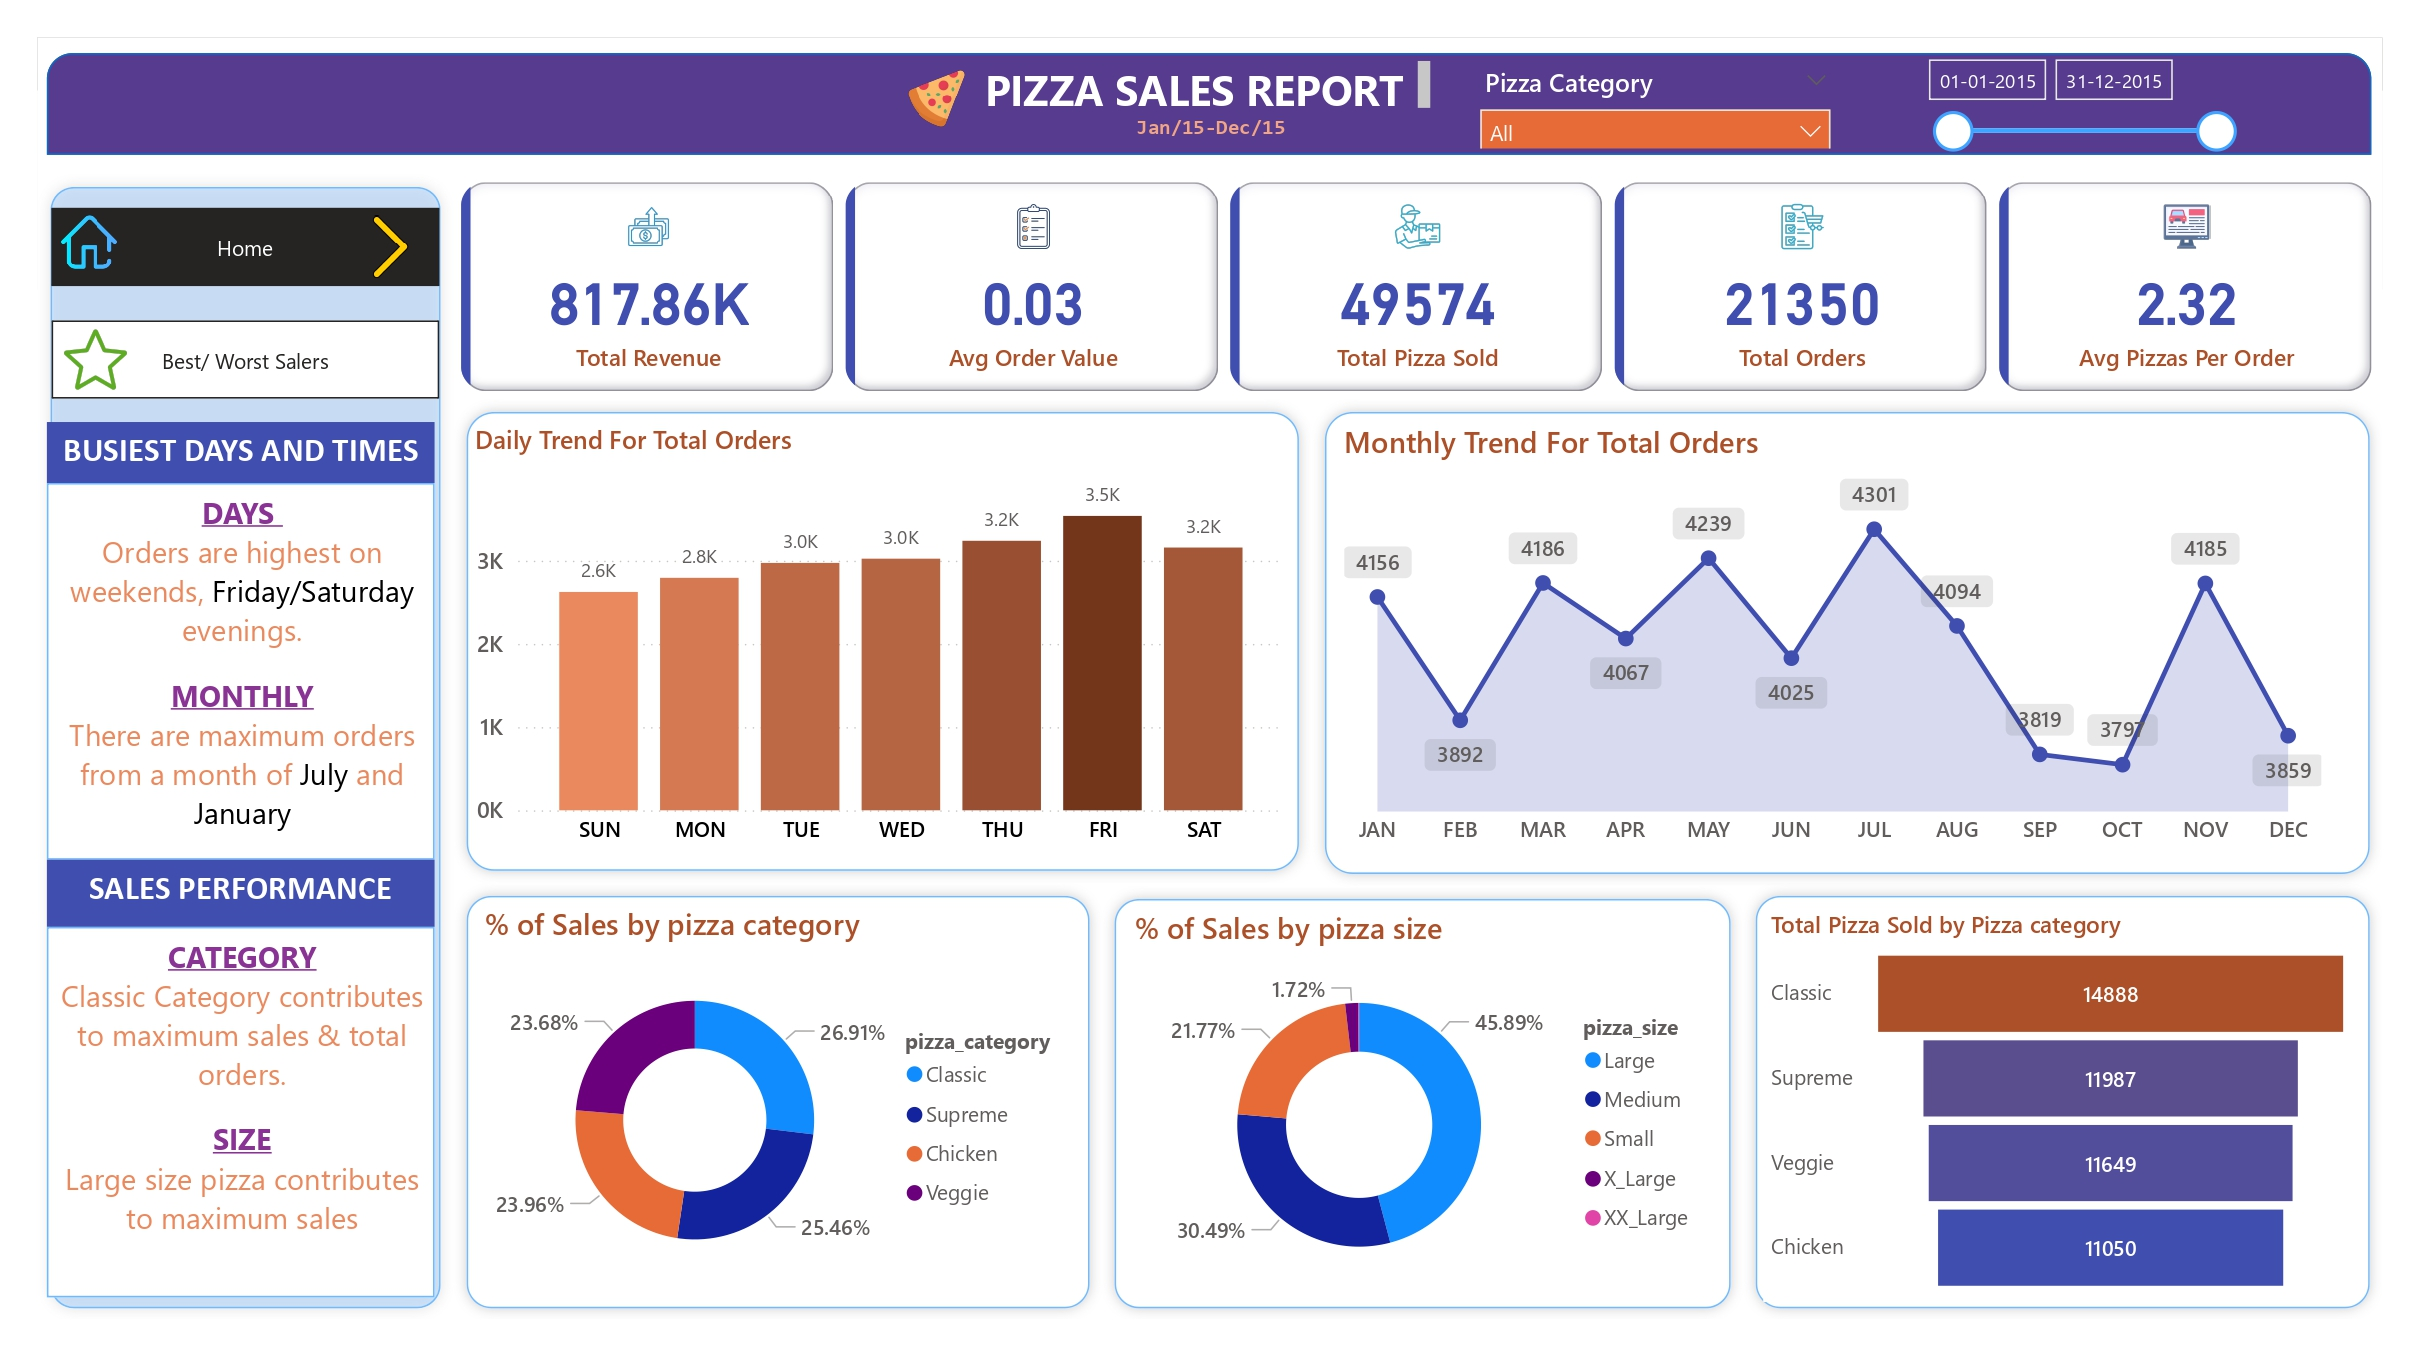

The page's visual inventory and layout, read from the dashboard file:
{"tool":"powerbi","page":{"name":"Home","canvas":[1500,820],"ordinal":0},"visuals":[{"type":"cardVisual","fields":{"Data":["pizza_db pizza_sales.Total Revenue","pizza_db pizza_sales.Avg Order Value","pizza_db pizza_sales.Total Pizza Sold","pizza_db pizza_sales.Total Orders","pizza_db pizza_sales.Avg Pizzas Per Order"]},"box":[266.2,86.8,1233.8,144.1],"z":0},{"type":"shape","box":[5.9,10.3,1486.8,64.7],"z":1000},{"type":"textbox","box":[598.5,10.3,297.1,42.6],"z":2000},{"type":"textbox","box":[541.2,42.6,419.1,32.4],"z":3000},{"type":"shape","box":[0,86.8,266.2,733.8],"z":4000},{"type":"image","box":[520.6,14.7,108.8,48.5],"z":5000},{"type":"shape","box":[266.2,230.9,548.5,310.3],"z":6000},{"type":"columnChart","title":"Daily Trend For Total Orders","fields":{"Category":["pizza_db pizza_sales.Order Day"],"Y":["pizza_db pizza_sales.Total Orders"]},"box":[275,245.6,527.9,280.9],"z":7000},{"type":"shape","box":[814.7,230.9,685.3,311.8],"z":8000},{"type":"areaChart","title":"Monthly Trend For Total Orders","fields":{"Category":["pizza_db pizza_sales.Order Month"],"Y":["CountNonNull(pizza_db pizza_sales.Order Month)"]},"box":[830.9,245.6,635.3,280.9],"z":9000},{"type":"shape","box":[266.2,541.2,414.7,279.4],"z":10000},{"type":"shape","box":[680.9,542.6,410.3,277.9],"z":11000},{"type":"shape","box":[1091.2,541.2,408.8,279.4],"z":12000},{"type":"donutChart","title":"% of Sales by pizza category","fields":{"Category":["pizza_db pizza_sales.pizza_category"],"Y":["pizza_db pizza_sales.Total Revenue"]},"box":[280.9,554.4,388.2,251.5],"z":13000},{"type":"donutChart","title":"% of Sales by pizza size","fields":{"Y":["pizza_db pizza_sales.Total Revenue"],"Category":["pizza_db pizza_sales.pizza_size"]},"box":[697.1,557.4,376.5,251.5],"z":14000},{"type":"funnel","title":"Total Pizza Sold by Pizza category","fields":{"Category":["pizza_db pizza_sales.pizza_category"],"Y":["pizza_db pizza_sales.Total Pizza Sold"]},"box":[1104.4,557.4,380.9,251.5],"z":15000},{"type":"textbox","box":[5.9,245.6,248.5,39.7],"z":16000},{"type":"textbox","box":[5.9,285.3,248.5,241.2],"z":17000},{"type":"textbox","box":[5.9,526.5,248.5,42.6],"z":18000},{"type":"textbox","box":[5.9,569.1,248.5,236.8],"z":19000},{"type":"slicer","fields":{"Values":["pizza_db pizza_sales.pizza_category"]},"box":[913.2,13.2,244.1,57.4],"z":20000},{"type":"slicer","fields":{"Values":["pizza_db pizza_sales.order_date"]},"box":[1197.1,4.4,217.6,76.5],"z":21000},{"type":"pageNavigator","box":[8.8,108.8,248.5,50],"z":21001},{"type":"pageNavigator","box":[8.8,180.9,248.5,50],"z":21002},{"type":"image","box":[197.1,108.8,57.4,50],"z":21003},{"type":"image","box":[10.3,105.9,45.6,50],"z":21004},{"type":"image","box":[8.8,180.9,55.9,50],"z":21005}]}

Visuals, with their boxes in screenshot pixels (x1, y1, x2, y2):
cardVisual - pizza_db pizza_sales.Total Revenue x pizza_db pizza_sales.Avg Order Value: bbox=[454, 173, 2382, 399]
shape: bbox=[47, 54, 2371, 155]
textbox: bbox=[973, 54, 1438, 120]
textbox: bbox=[884, 104, 1539, 155]
shape: bbox=[38, 173, 454, 1319]
image: bbox=[851, 61, 1021, 136]
shape: bbox=[454, 399, 1311, 884]
"Daily Trend For Total Orders" columnChart: bbox=[467, 421, 1293, 861]
shape: bbox=[1311, 399, 2382, 886]
"Monthly Trend For Total Orders" areaChart: bbox=[1336, 421, 2330, 861]
shape: bbox=[454, 884, 1102, 1319]
shape: bbox=[1102, 886, 1743, 1319]
shape: bbox=[1743, 884, 2382, 1319]
"% of Sales by pizza category" donutChart: bbox=[477, 904, 1084, 1297]
"% of Sales by pizza size" donutChart: bbox=[1127, 909, 1716, 1302]
"Total Pizza Sold by Pizza category" funnel: bbox=[1764, 909, 2360, 1302]
textbox: bbox=[47, 421, 435, 484]
textbox: bbox=[47, 484, 435, 861]
textbox: bbox=[47, 861, 435, 927]
textbox: bbox=[47, 927, 435, 1297]
slicer - pizza_db pizza_sales.pizza_category: bbox=[1465, 58, 1847, 148]
slicer - pizza_db pizza_sales.order_date: bbox=[1909, 44, 2249, 164]
pageNavigator: bbox=[51, 208, 440, 286]
pageNavigator: bbox=[51, 320, 440, 399]
image: bbox=[346, 208, 435, 286]
image: bbox=[54, 203, 125, 281]
image: bbox=[51, 320, 139, 399]
